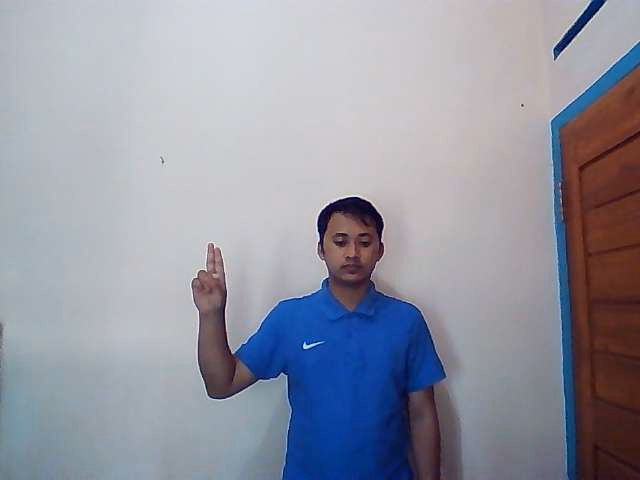U: (190, 243, 228, 314)
